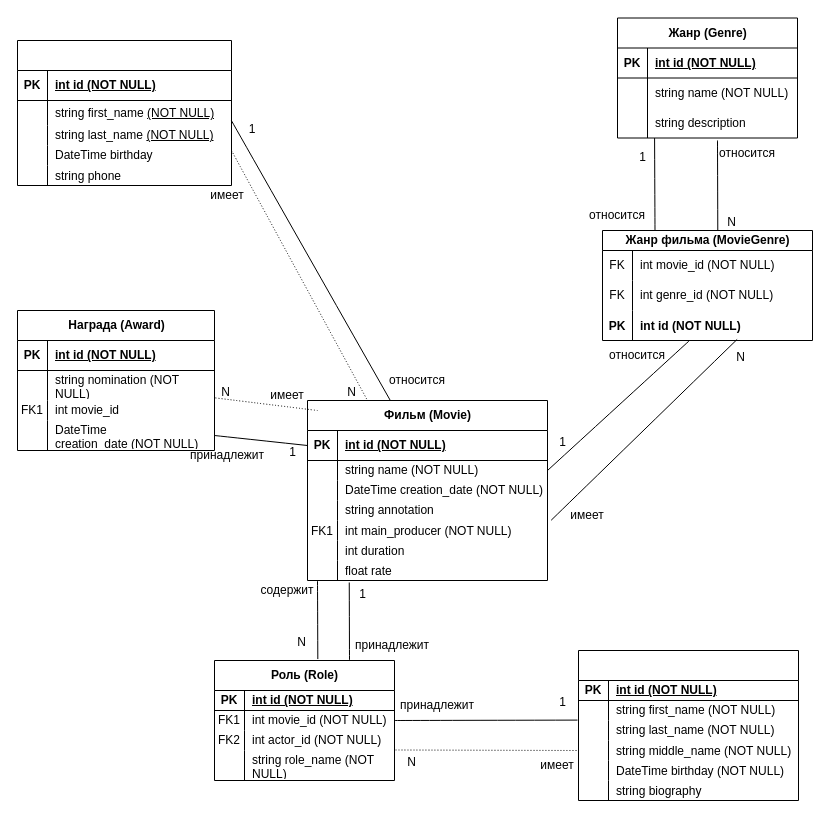
This 830x818 diagram has some shape labels left out. Here are the shapes that lost their labels. From the top down, the box of each, then its label:
(16, 40, 232, 186): Режиссер (Producer)
(578, 650, 798, 800): Актер (Actor)
